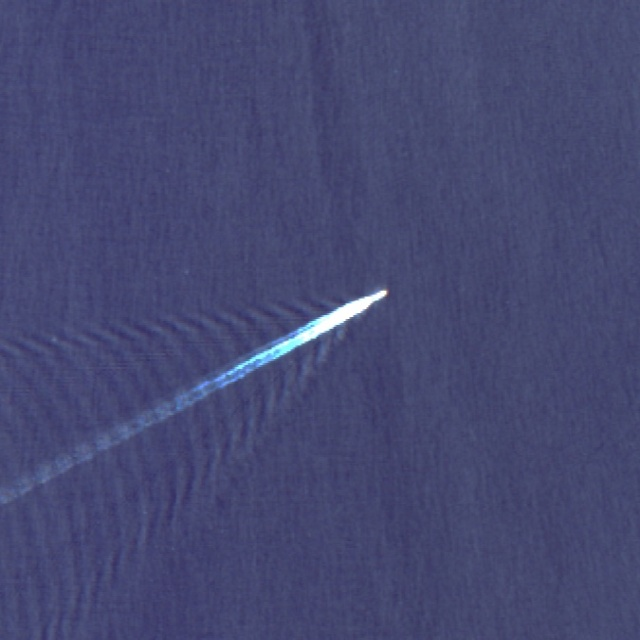wake: (155, 235, 425, 452)
